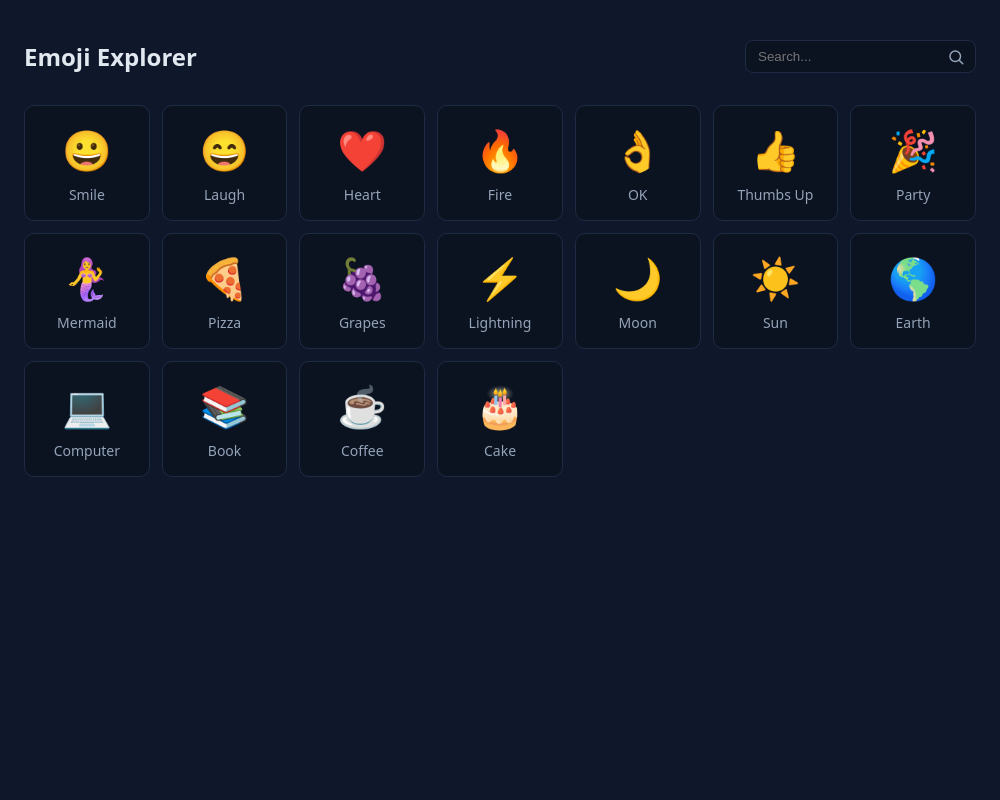
Scenario: Emoji Dialog - Navigation and Interactions › closes with Escape and via Close button
This screenshot has width=1000, height=800.
Expected: the table named "emojis" is shown, [24,105,976,477]
// Open via click
Click the cell "❤️ Heart": x=362, y=163 [299,105,425,221]
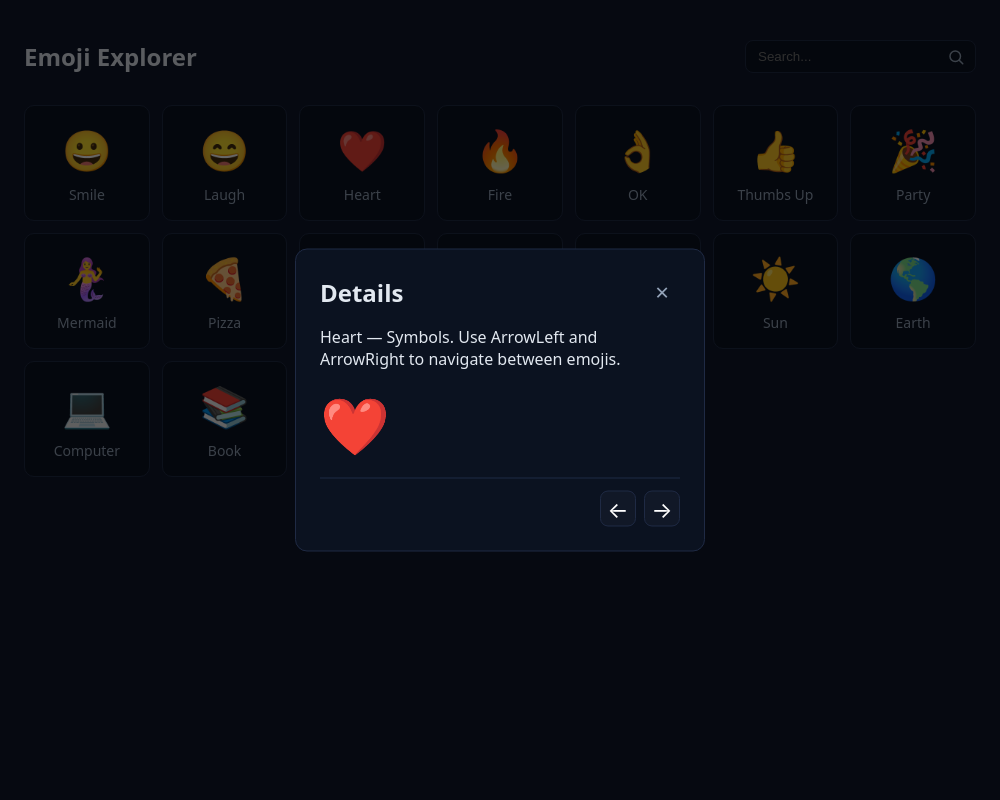
Expected: the dialog "Details" is shown
// Close with ESC
Press Esc in the dialog "Details", box [295,249,705,552]
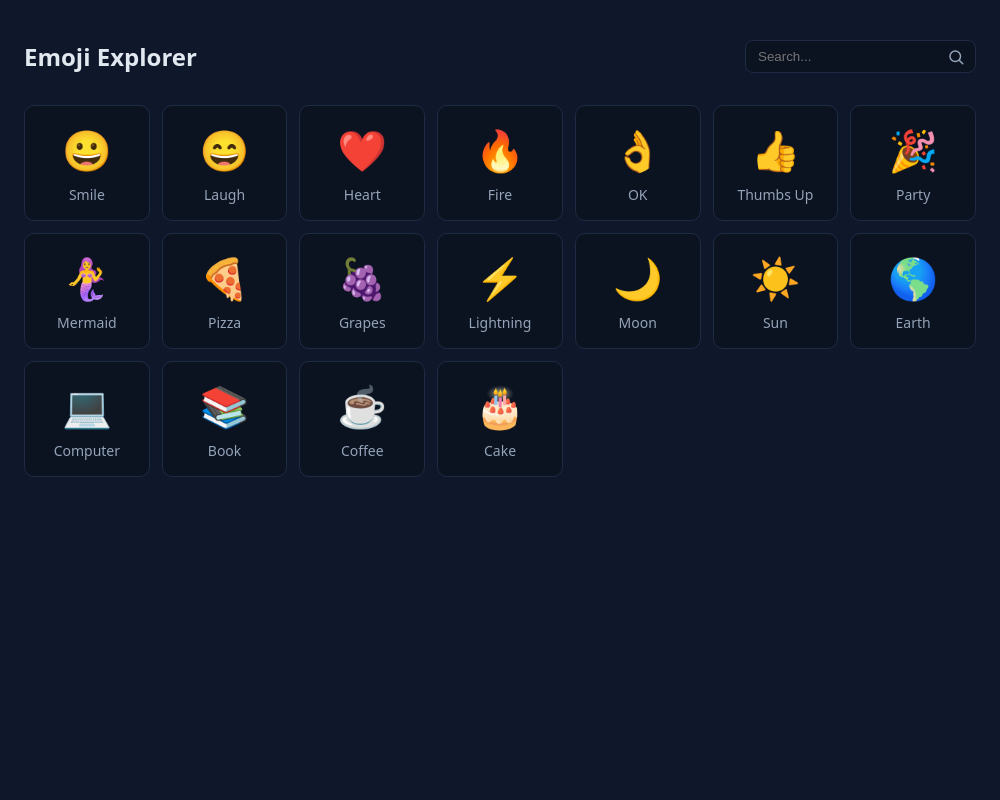
Expected: the heading "Details" is gone
// Open again and close via button
Click the cell "😄 Laugh": x=225, y=163 [162,105,288,221]
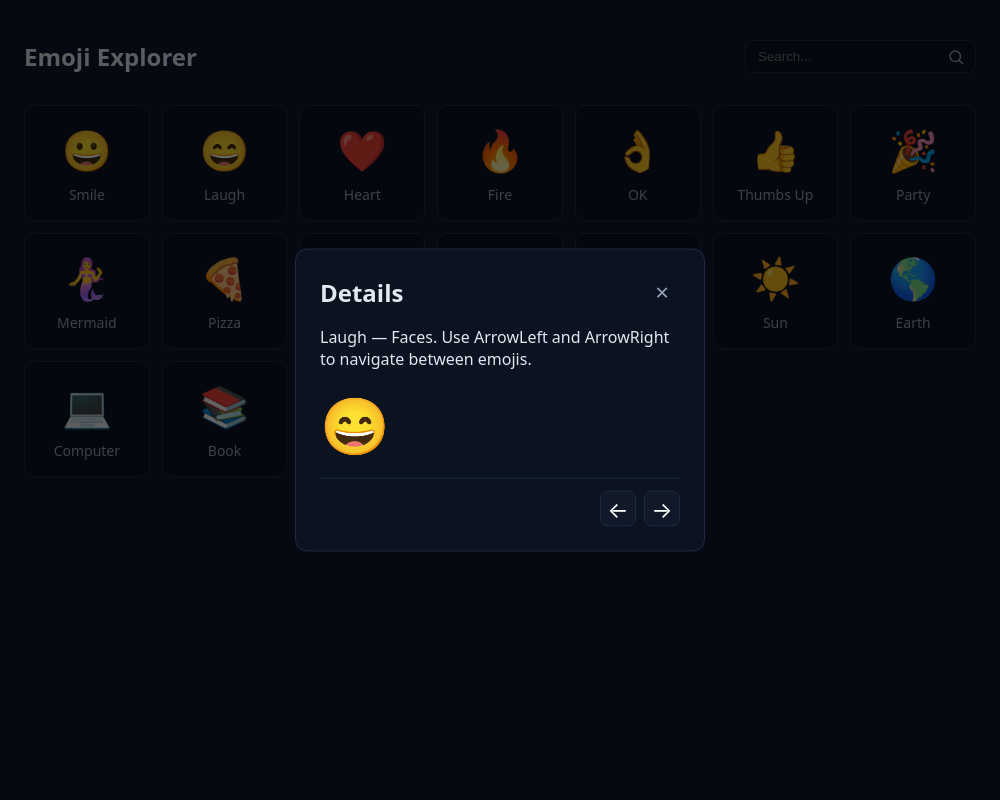
Expected: the dialog "Details" is shown, [295,249,705,552]
Click the button named "close dialog": x=662, y=292 [644,274,680,310]
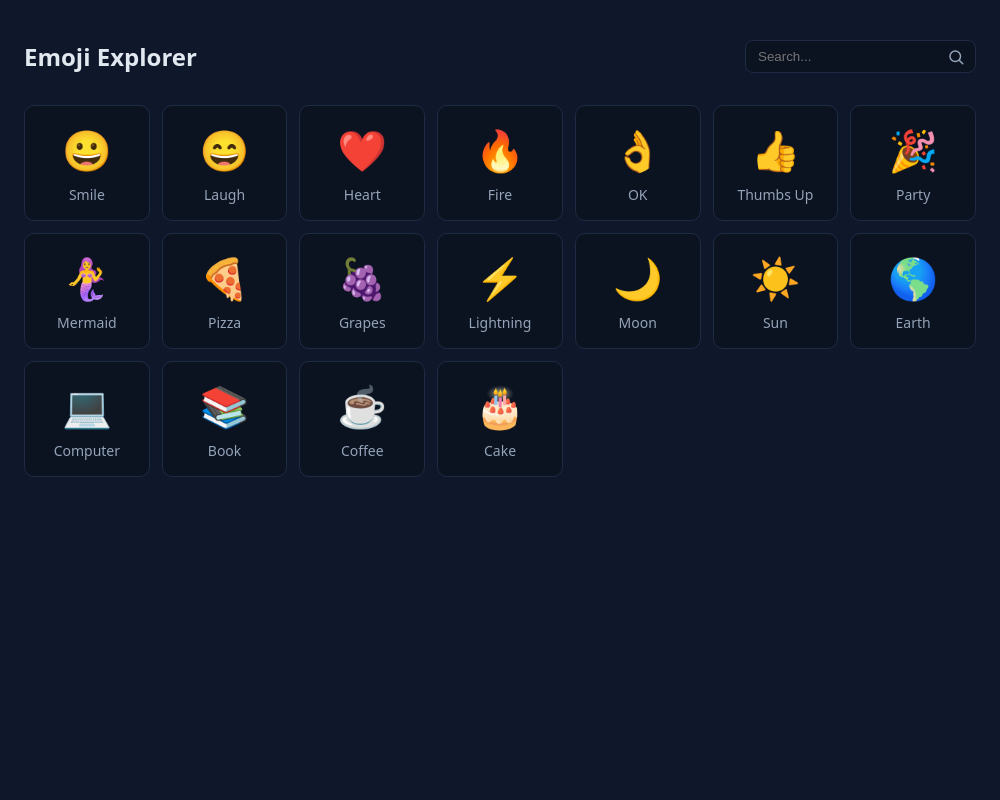
Expected: the heading "Details" is gone
